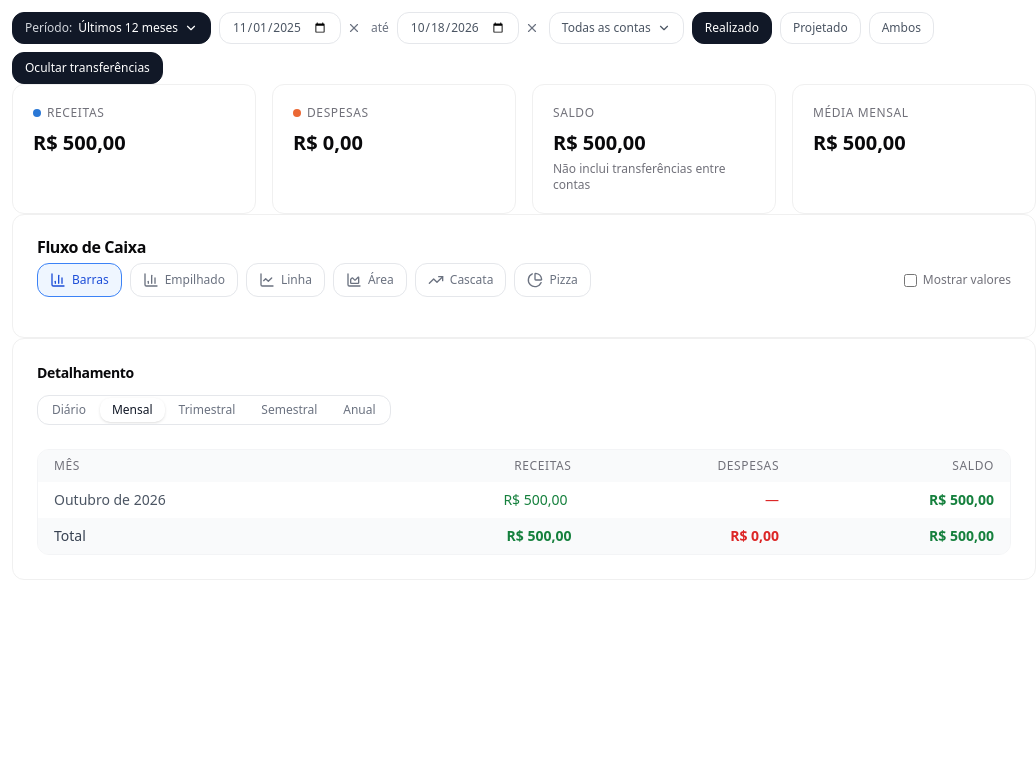
Scenario: filtro de período do fluxo de caixa › atalho de futuro troca para o modo Projetado
Click the button "Período: Últimos 12 meses" at (112, 28), box [12,12,211,44]
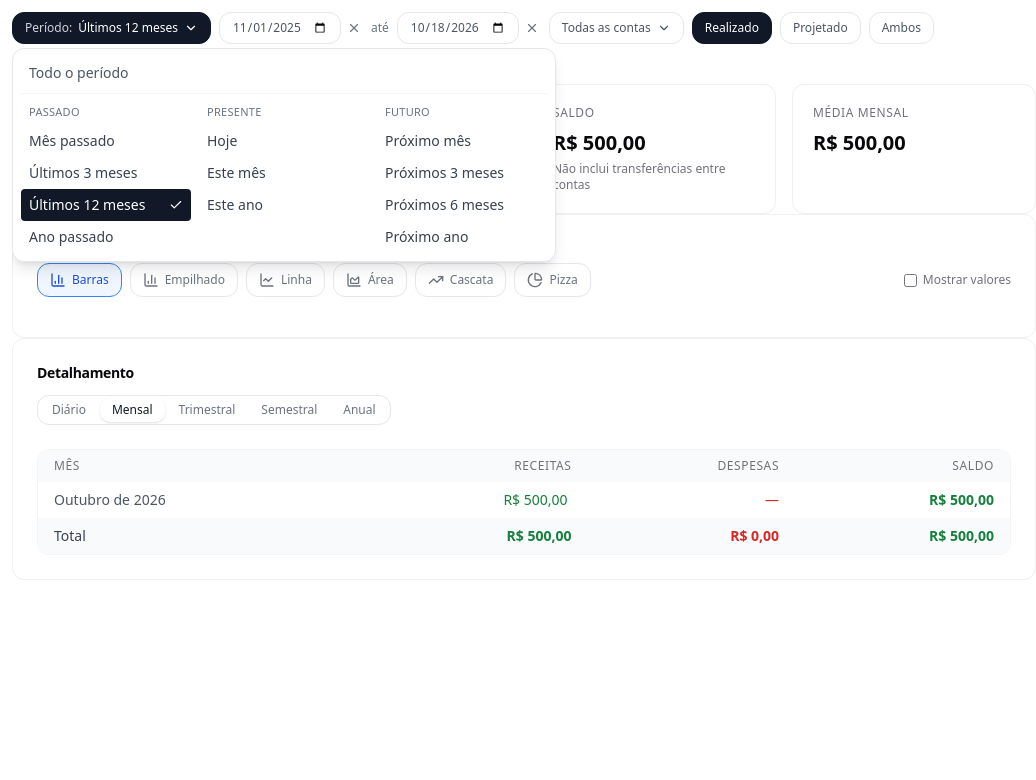
Click the button "Próximo mês" at (462, 140), box [377,124,547,156]
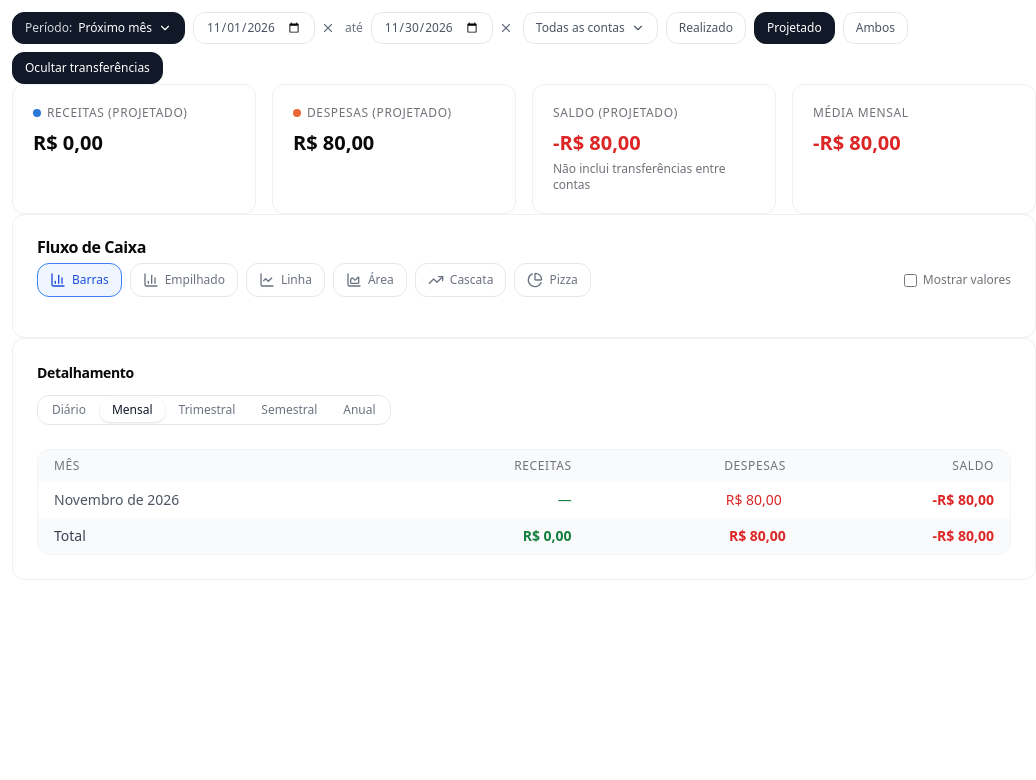
Now the text "R$ 80,00" is shown, box [293,129,374,156]
